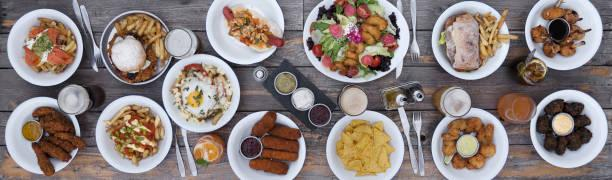Braised Crucian Carp: (302, 1, 407, 84), (431, 1, 512, 81), (94, 95, 173, 174), (162, 53, 240, 133), (6, 6, 84, 86), (529, 88, 607, 168), (3, 96, 80, 175), (100, 10, 174, 86), (431, 109, 510, 180), (227, 110, 306, 180), (525, 0, 604, 70), (325, 110, 405, 179), (206, 0, 283, 65)
